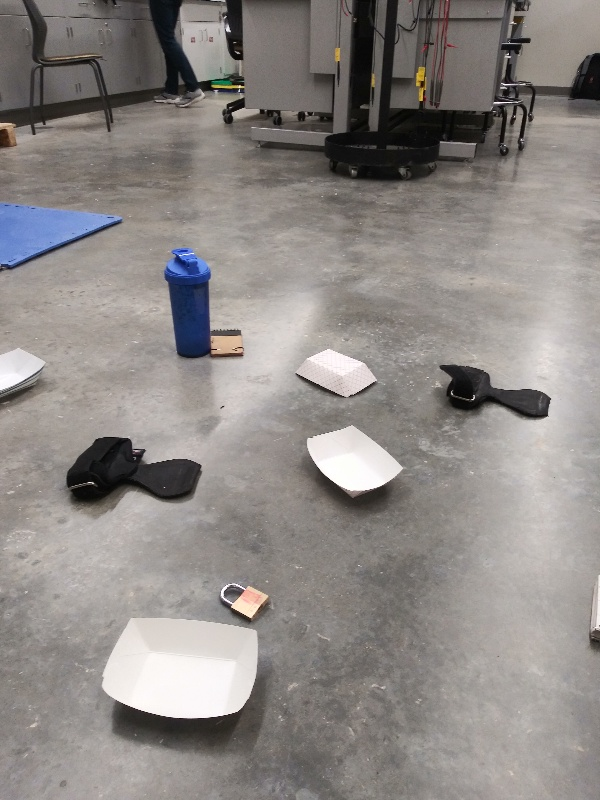plate: (95, 610, 267, 726), (299, 421, 410, 508), (290, 345, 381, 401), (1, 341, 52, 419)
